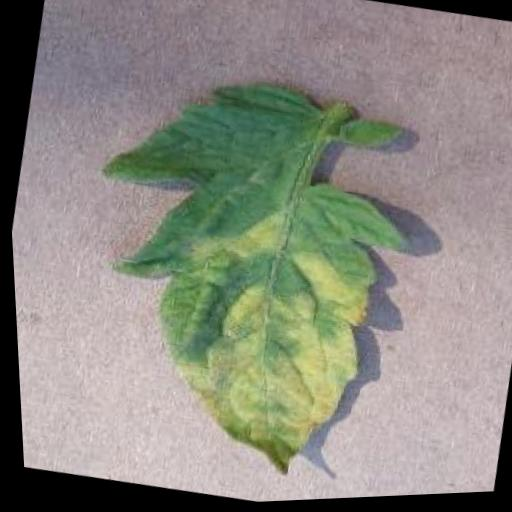Leaf Mold: (43, 50, 442, 505)
